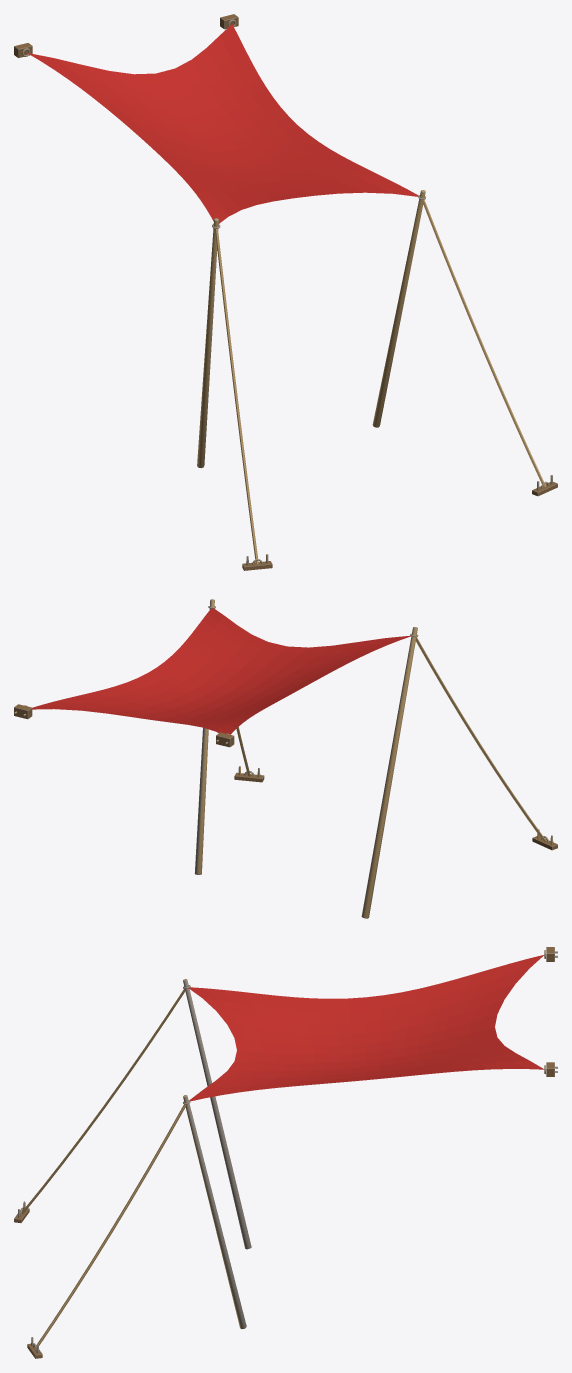
Rendered from nomad_sail_wall_porch.fbx.
The picture shows the model from 3 angles, top to bottom: view 1: azimuth 30°, elevation 25°; view 2: azimuth 150°, elevation 25°; view 3: azimuth 270°, elevation 25°; orthographic projection. The views are drawn at different scales.
Parts seen in each view (by area): view 1: S13_Canopy, S13_Mast1_SailRig_MastPole, S13_Mast_SailRig_MastPole, S13_Guy1, S13_Guy; view 2: S13_Canopy, S13_Mast1_SailRig_MastPole, S13_Mast_SailRig_MastPole, S13_Guy1; view 3: S13_Canopy, S13_Mast1_SailRig_MastPole, S13_Mast_SailRig_MastPole, S13_Guy, S13_Guy1.
Boxes of the visible parts, x1=… form: S13_Canopy: x1=27, y1=24, x2=418, y2=223; S13_Mast1_SailRig_MastPole: x1=197, y1=218, x2=220, y2=468; S13_Mast_SailRig_MastPole: x1=372, y1=190, x2=425, y2=427; S13_Guy1: x1=215, y1=229, x2=258, y2=564; S13_Guy: x1=422, y1=200, x2=545, y2=487; S13_Canopy: x1=32, y1=608, x2=410, y2=734; S13_Mast1_SailRig_MastPole: x1=361, y1=627, x2=418, y2=918; S13_Mast_SailRig_MastPole: x1=194, y1=599, x2=215, y2=874; S13_Guy1: x1=416, y1=637, x2=546, y2=841; S13_Canopy: x1=189, y1=955, x2=544, y2=1101; S13_Mast1_SailRig_MastPole: x1=183, y1=979, x2=251, y2=1249; S13_Mast_SailRig_MastPole: x1=183, y1=1095, x2=246, y2=1328; S13_Guy: x1=34, y1=1104, x2=185, y2=1349; S13_Guy1: x1=21, y1=989, x2=185, y2=1213.
Bounding box in the file's own units: 390 × 357 × 606.
